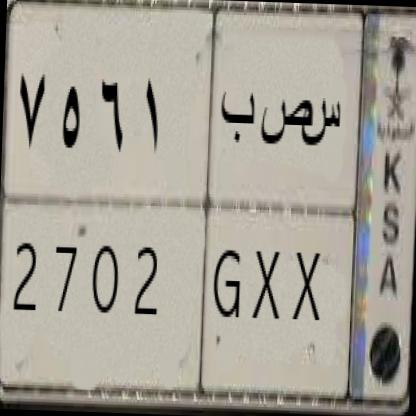english: (0, 187, 360, 399)
